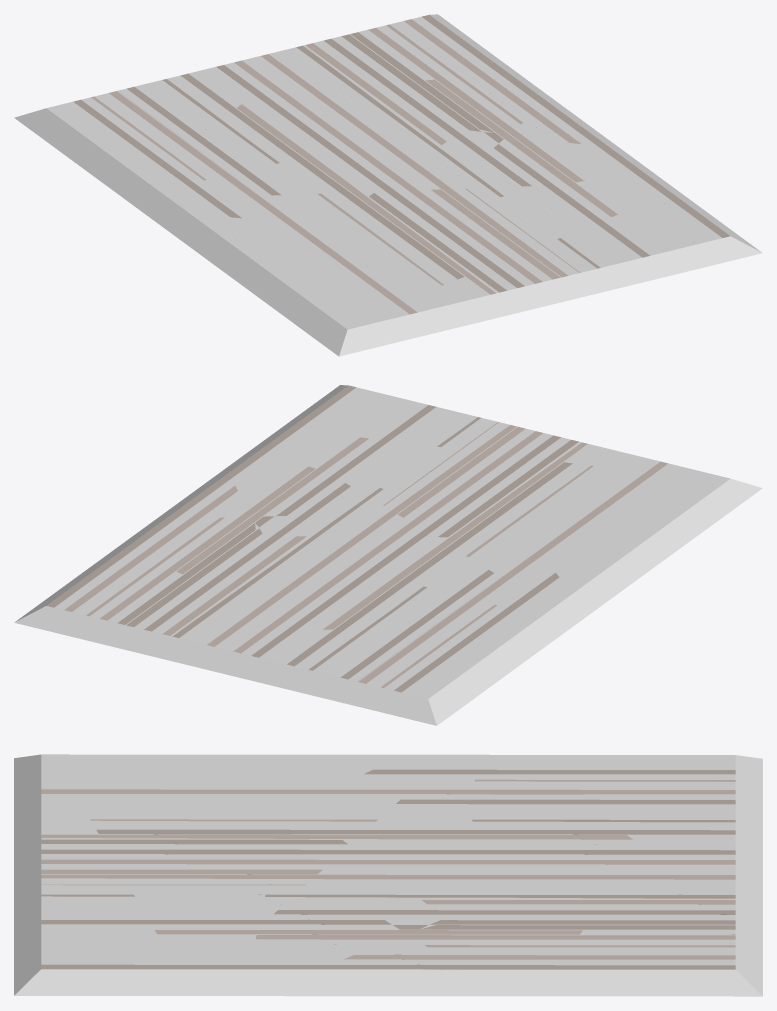
File: sawmill_decking.dae
The picture shows the model from 3 angles, top to bottom: view 1: azimuth 30°, elevation 25°; view 2: azimuth 150°, elevation 25°; view 3: azimuth 270°, elevation 25°; orthographic projection. The views are drawn at different scales.
Visible parts, largest first — view 1: Colmesh-1, sawmill_decking_a400; view 2: Colmesh-1, sawmill_decking_a400; view 3: Colmesh-1, sawmill_decking_a400.
Boxes of the visible parts, x1,y1,x2,y2 form: Colmesh-1: [14, 14, 762, 356]; sawmill_decking_a400: [55, 15, 729, 327]; Colmesh-1: [14, 385, 762, 725]; sawmill_decking_a400: [46, 385, 721, 696]; Colmesh-1: [14, 754, 762, 996]; sawmill_decking_a400: [41, 759, 735, 969].
Size of the model in its own units: 6.54 by 8.69 by 0.1959.
